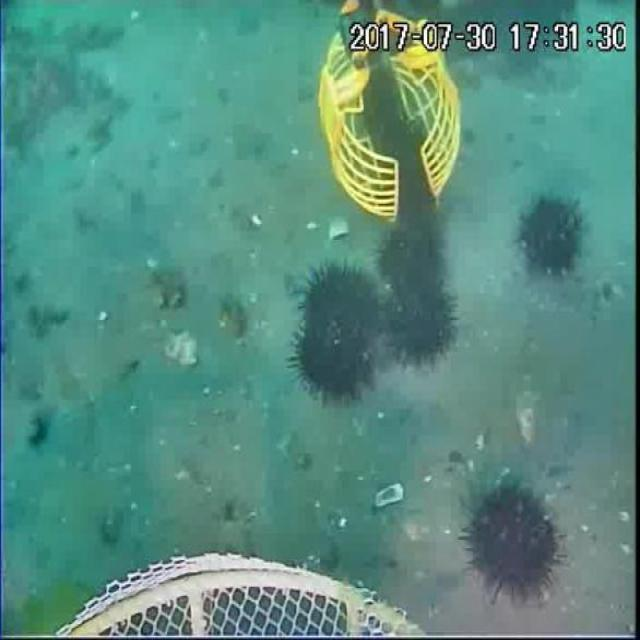echinus: (459, 481, 564, 603), (289, 308, 377, 407), (376, 276, 462, 373), (294, 259, 379, 344), (513, 192, 589, 281), (374, 221, 449, 303), (380, 130, 436, 207)
